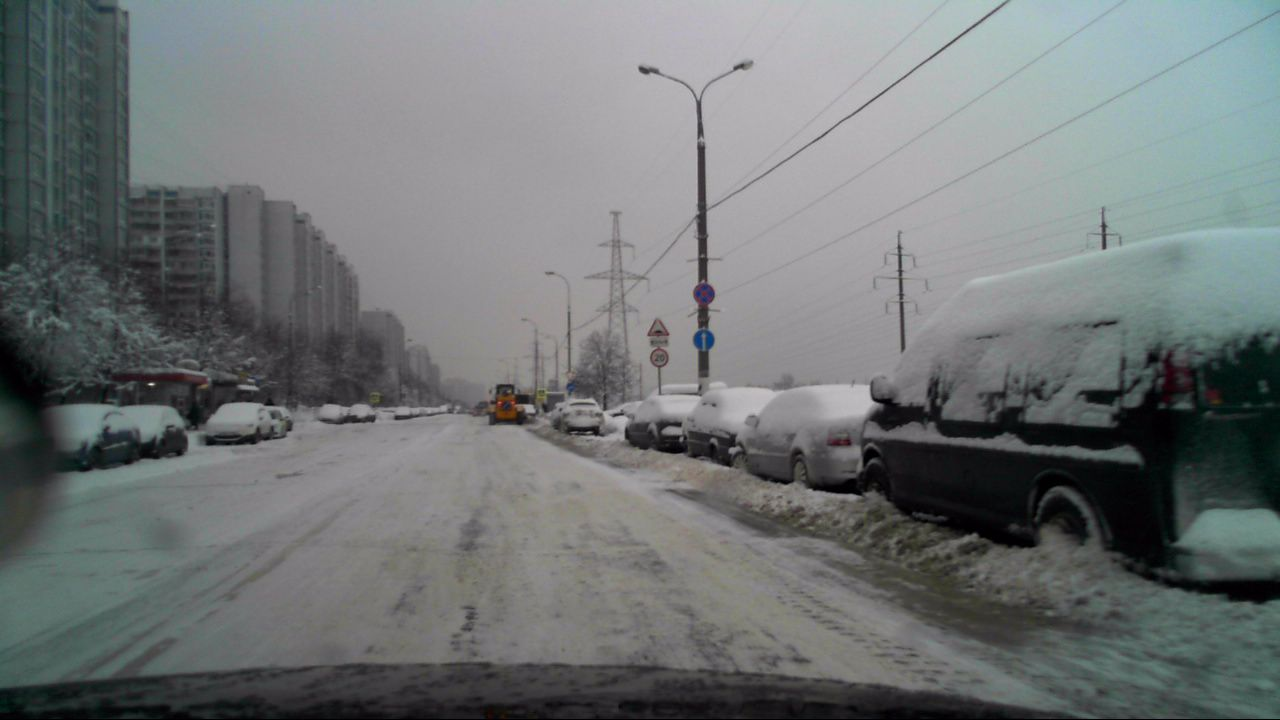No Parking: (693, 281, 715, 304)
